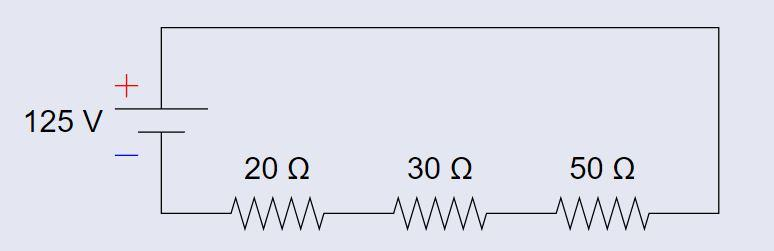Battery: (100, 57, 252, 171)
